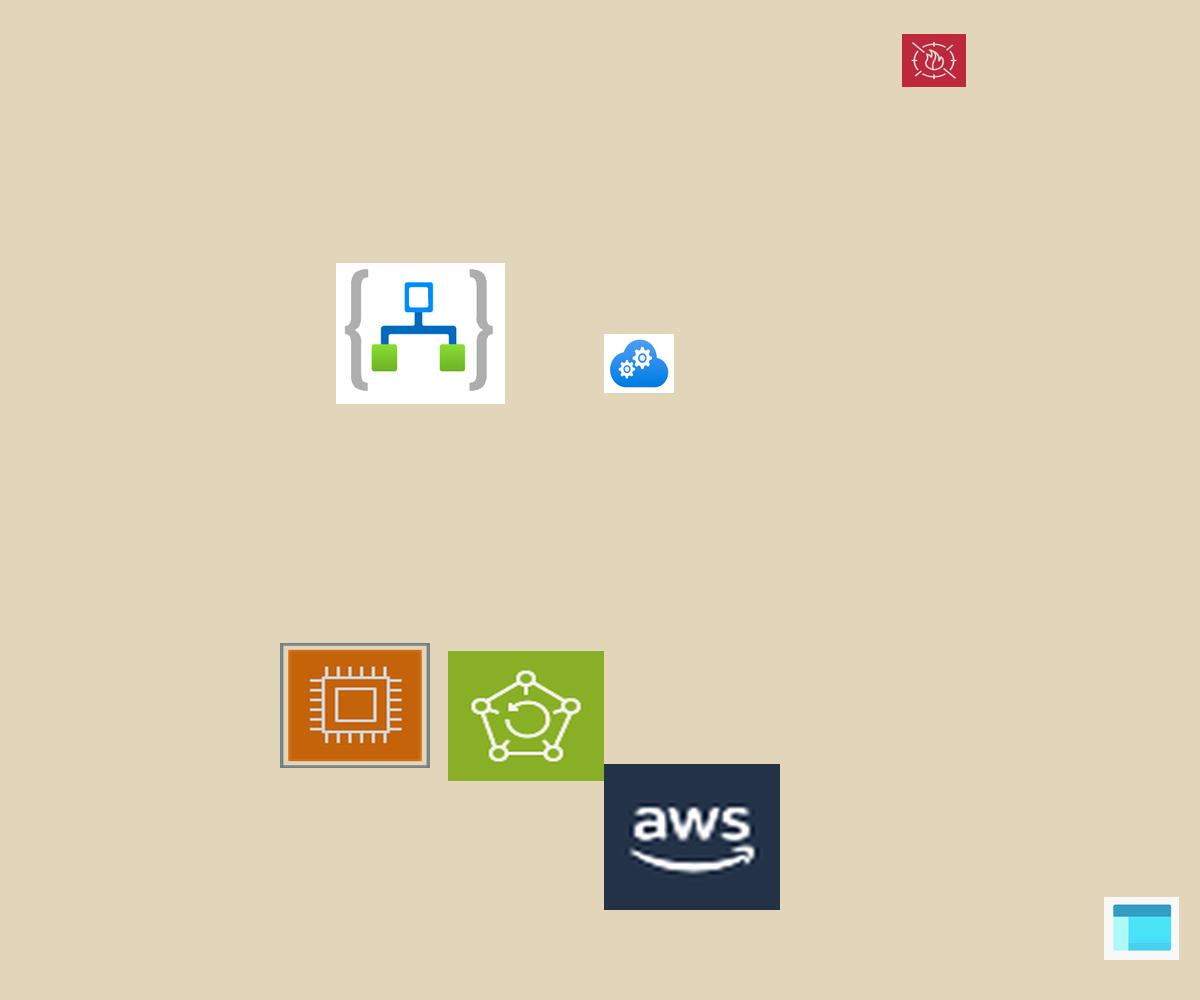AWS-Backup: (448, 651, 604, 781)
AWS-Category_Compute: (280, 643, 430, 768)
AWS-Cloud-logo: (604, 764, 780, 910)
AWS-WAF: (902, 34, 966, 87)
Azure_cloud_services: (604, 334, 674, 393)
Azure_integration-204-Logic-Apps: (336, 263, 505, 404)
Azure_management-portal: (1104, 897, 1179, 960)
